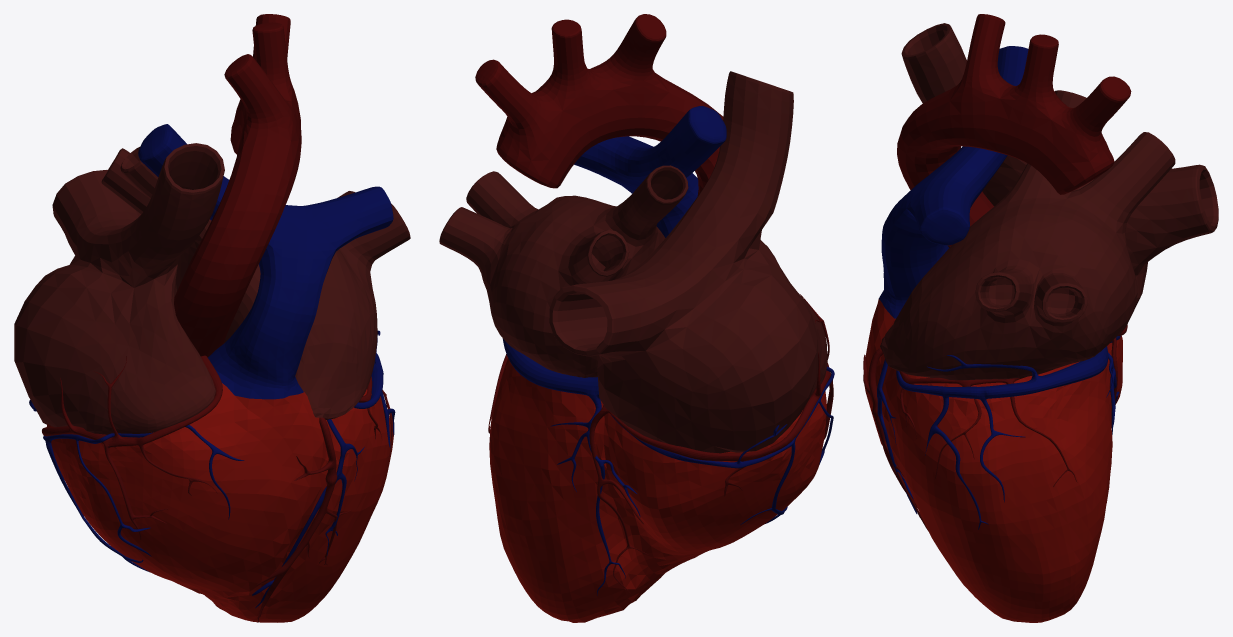
Rendered from Human_heart.obj.
3 views of the same model, side by side, from view 1: azimuth 30°, elevation 25°; view 2: azimuth 150°, elevation 25°; view 3: azimuth 270°, elevation 25° (orthographic). The views are drawn at different scales.
Parts seen in each view (by area): view 1: Ventriculos_Cube.001, Auricula_izq_Cube.004, Aorta_Cube.003, Auricula_der_Cube.002, Arteritas_Cube.005, Venitas_Cube.006; view 2: Auricula_izq_Cube.004, Ventriculos_Cube.001, Auricula_der_Cube.002, Aorta_Cube.003, Venitas_Cube.006, Arteritas_Cube.005; view 3: Ventriculos_Cube.001, Auricula_der_Cube.002, Aorta_Cube.003, Auricula_izq_Cube.004, Venitas_Cube.006, Arteritas_Cube.005.
Part boxes in pixels (bbox=[...]): Ventriculos_Cube.001: bbox=[47, 124, 393, 622]; Auricula_izq_Cube.004: bbox=[14, 143, 224, 434]; Aorta_Cube.003: bbox=[174, 14, 301, 357]; Auricula_der_Cube.002: bbox=[101, 147, 410, 419]; Arteritas_Cube.005: bbox=[42, 355, 392, 622]; Venitas_Cube.006: bbox=[29, 330, 395, 608]; Auricula_izq_Cube.004: bbox=[549, 71, 827, 453]; Ventriculos_Cube.001: bbox=[489, 106, 826, 622]; Auricula_der_Cube.002: bbox=[439, 165, 688, 377]; Aorta_Cube.003: bbox=[475, 14, 723, 195]; Venitas_Cube.006: bbox=[502, 338, 834, 595]; Arteritas_Cube.005: bbox=[488, 294, 833, 593]; Ventriculos_Cube.001: bbox=[864, 46, 1122, 622]; Auricula_der_Cube.002: bbox=[880, 90, 1175, 380]; Aorta_Cube.003: bbox=[897, 14, 1131, 246]; Auricula_izq_Cube.004: bbox=[901, 23, 1218, 324]; Venitas_Cube.006: bbox=[877, 336, 1120, 529]; Arteritas_Cube.005: bbox=[863, 325, 1127, 530].
Bounding box in the file's own units: 10.35 × 16.28 × 9.
